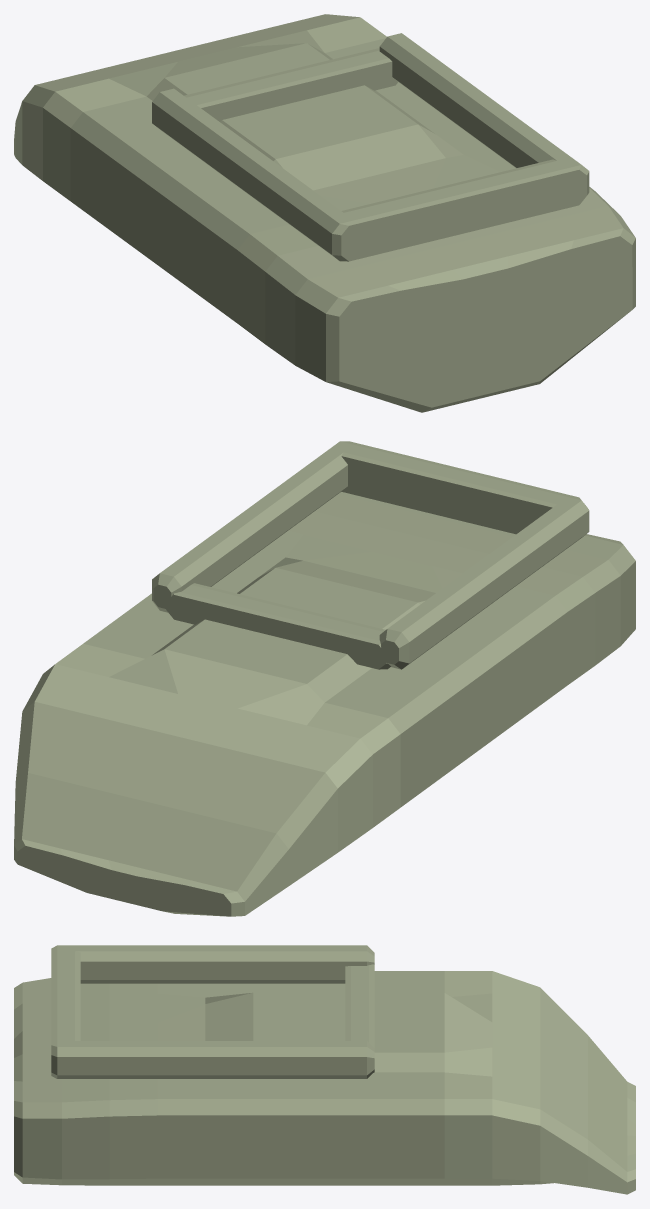
Rendered from hartmann_transport_a.glb.
3 views of the same model, one above another, from view 1: azimuth 30°, elevation 25°; view 2: azimuth 150°, elevation 25°; view 3: azimuth 270°, elevation 25° (orthographic). The views are drawn at different scales.
Parts seen in each view (by area): view 1: hartmann_transport_a; view 2: hartmann_transport_a; view 3: hartmann_transport_a.
Part boxes in pixels (x1=…): hartmann_transport_a: x1=14, y1=14, x2=635, y2=412; hartmann_transport_a: x1=14, y1=441, x2=635, y2=916; hartmann_transport_a: x1=14, y1=945, x2=635, y2=1194.
Bounding box in the file's own units: 3.9 × 2.14 × 7.4.
